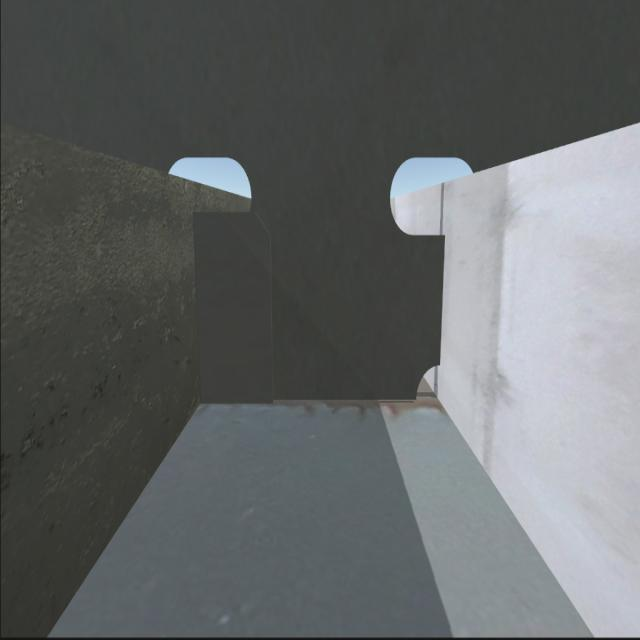fillet_hole: (415, 371, 442, 403)
fillet_yong_jeop_jang: (198, 398, 414, 403)
longi_yong_jeop_jang: (193, 212, 202, 400), (438, 234, 446, 364)
plate_CP03: (198, 215, 268, 398)
